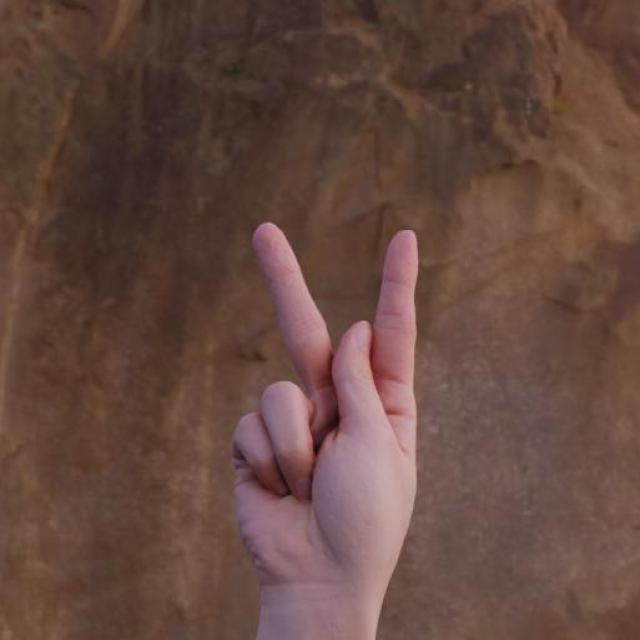K: (210, 210, 437, 624)
